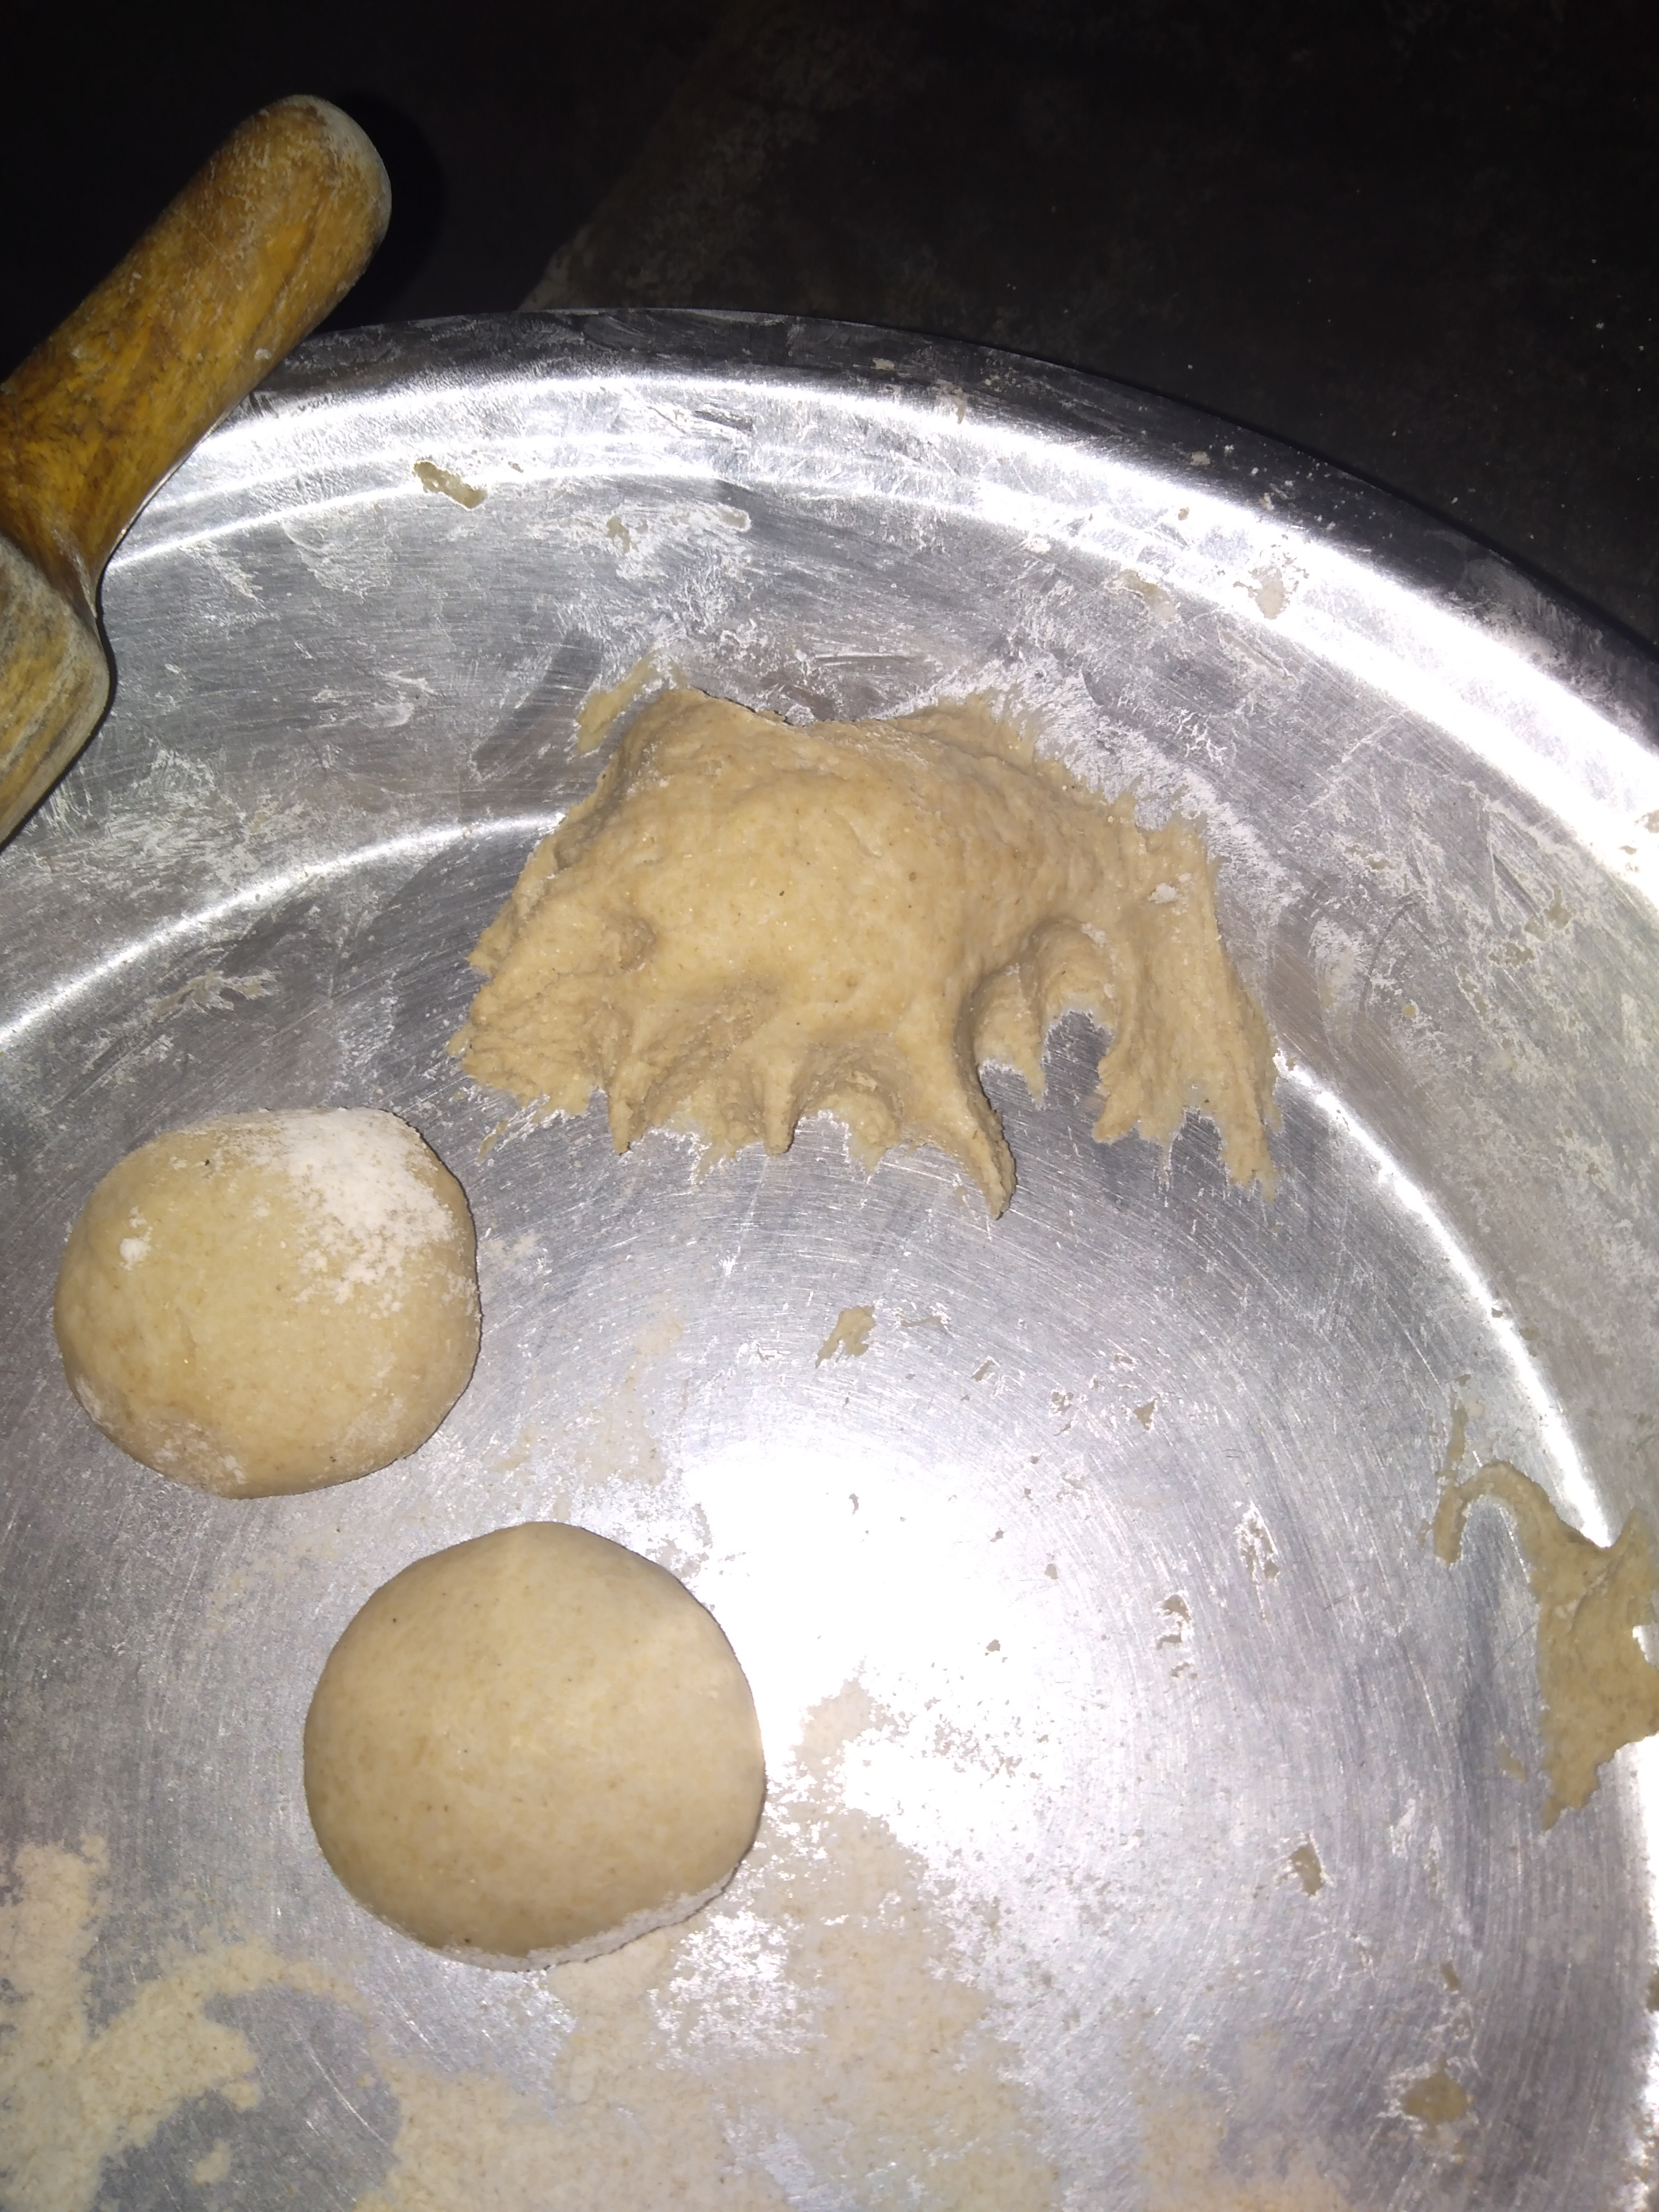food: (35, 674, 1659, 1984)
